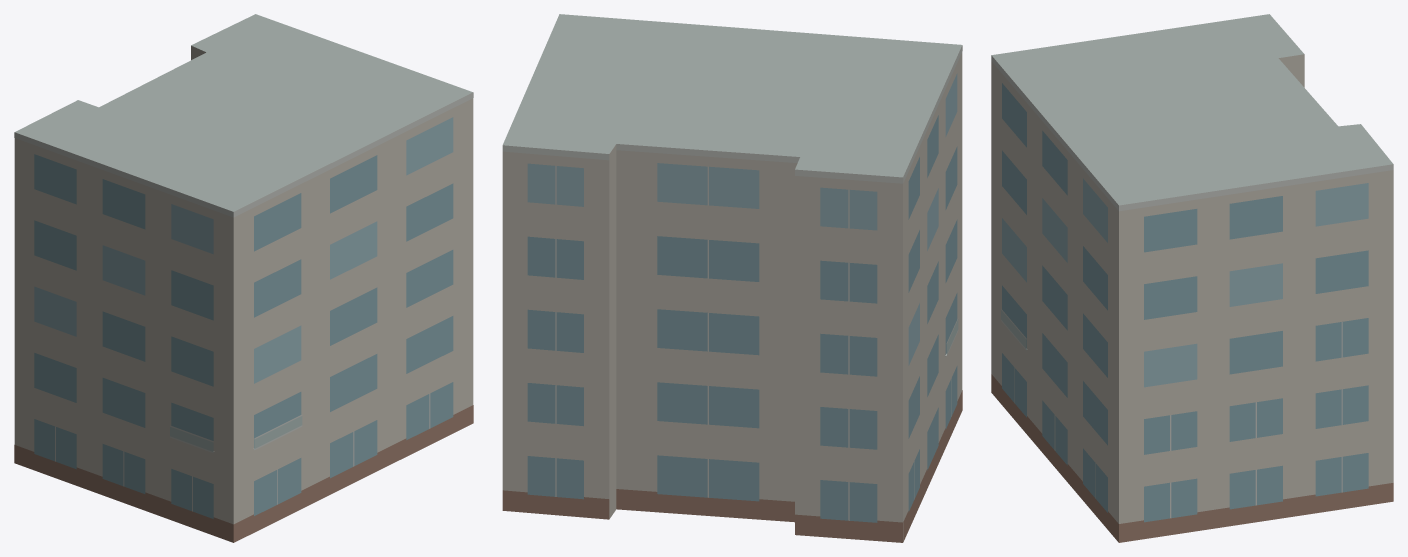
The model's file is survey-upis-32851543.glb.
3 renders of one model, left to right at view 1: azimuth 30°, elevation 25°; view 2: azimuth 150°, elevation 25°; view 3: azimuth 270°, elevation 25°, orthographic. The views are drawn at different scales.
Parts seen in each view (by area): view 1: survey-upis-32851543.tmp; view 2: survey-upis-32851543.tmp; view 3: survey-upis-32851543.tmp.
Part boxes in pixels (x1,y1,x2,y2): survey-upis-32851543.tmp: [14, 14, 473, 542]; survey-upis-32851543.tmp: [502, 14, 962, 542]; survey-upis-32851543.tmp: [991, 14, 1393, 542].
Size of the model in its own units: 17.3 by 14.2 by 15.35.
